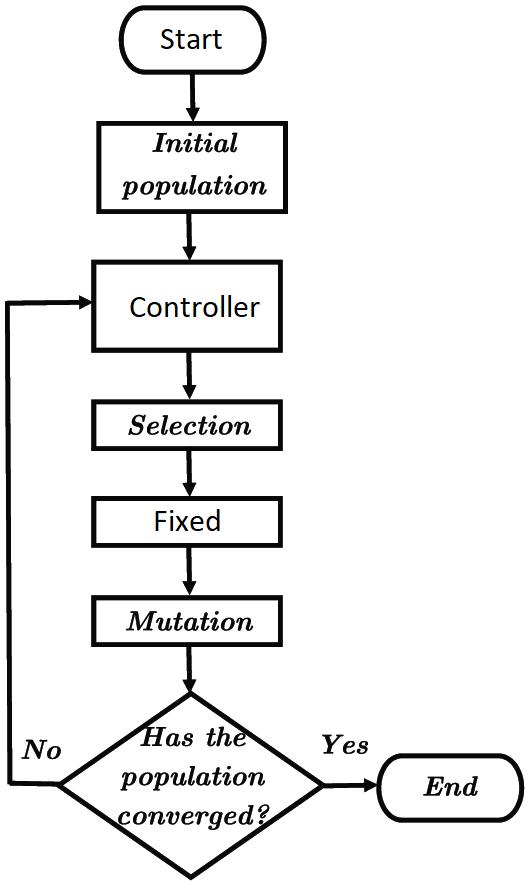arrow: (1, 295, 86, 789), (319, 777, 381, 797), (177, 449, 199, 496), (183, 71, 203, 120), (181, 644, 199, 696), (181, 544, 197, 599), (181, 212, 199, 260), (182, 355, 199, 399)
decision: (57, 695, 325, 879)
process: (91, 117, 293, 219), (89, 259, 289, 356), (87, 593, 289, 652), (87, 495, 289, 552), (90, 396, 287, 452)
terminator: (377, 751, 527, 825), (119, 5, 269, 75)
text: (114, 723, 274, 832), (118, 129, 269, 200), (129, 291, 263, 320), (123, 608, 255, 636), (126, 411, 253, 437), (423, 773, 481, 803), (158, 28, 222, 55), (151, 508, 223, 532), (322, 729, 371, 761), (22, 736, 62, 764)
